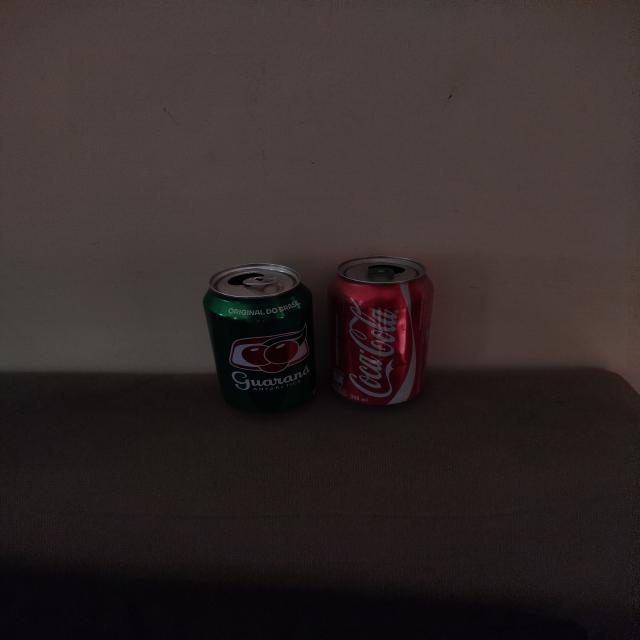Coca Cola: (328, 256, 433, 406)
Guarana: (202, 263, 318, 414)
